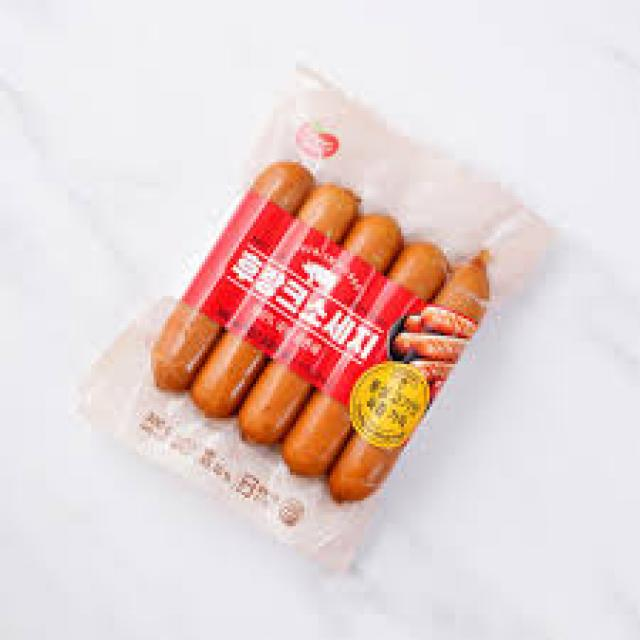sausage: (127, 145, 502, 523)
